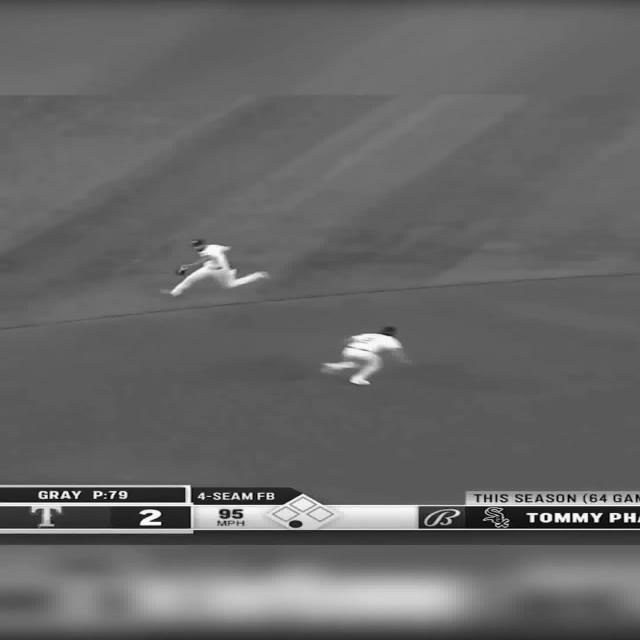baseball_glove: (175, 266, 187, 275)
shoe: (348, 376, 370, 385), (160, 288, 182, 297), (319, 363, 335, 374), (254, 270, 268, 278), (168, 290, 182, 297)
